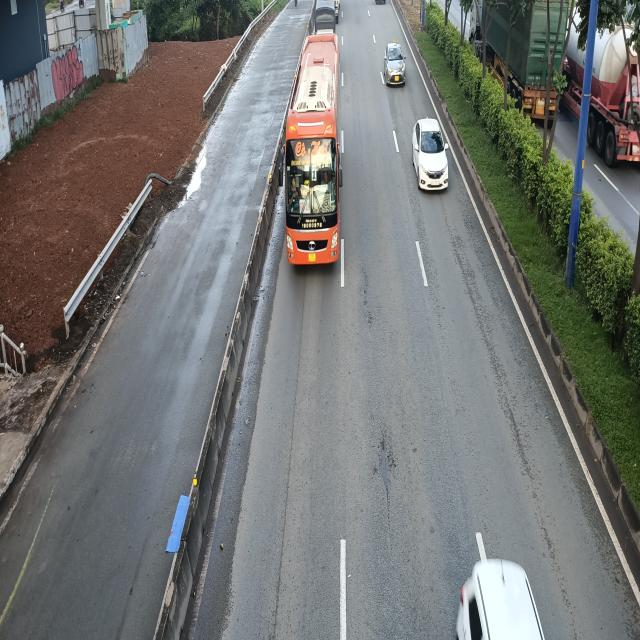car: (412, 118, 448, 194), (384, 42, 406, 88)
coach: (277, 36, 343, 268)
